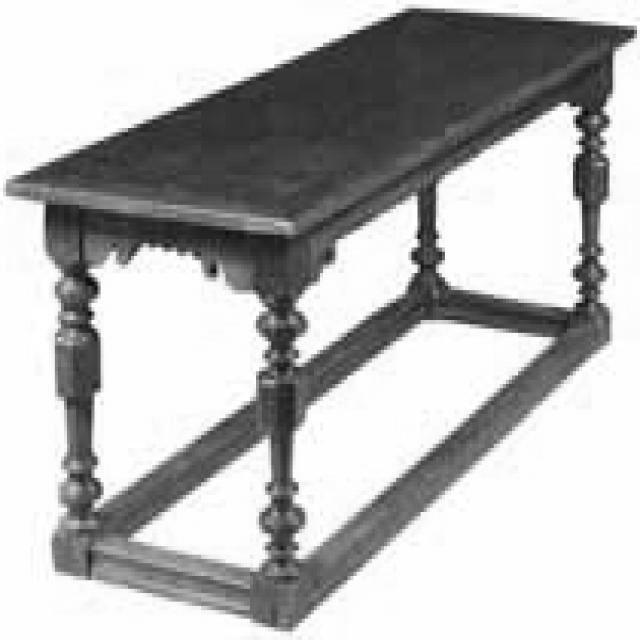table: (7, 6, 636, 628)
